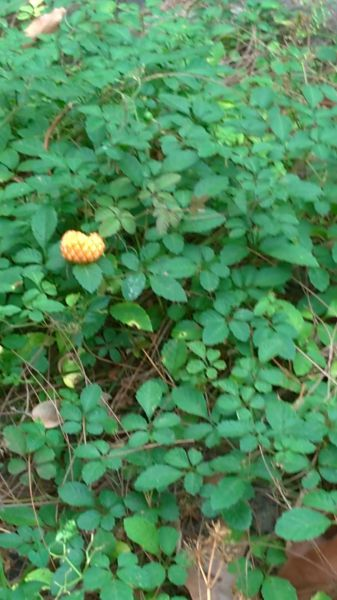eggs: (57, 224, 109, 273)
